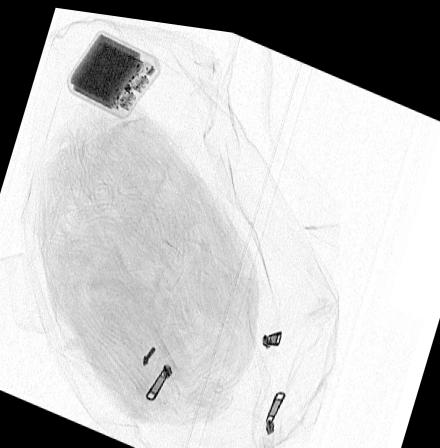Powerbank: (68, 26, 161, 113)
